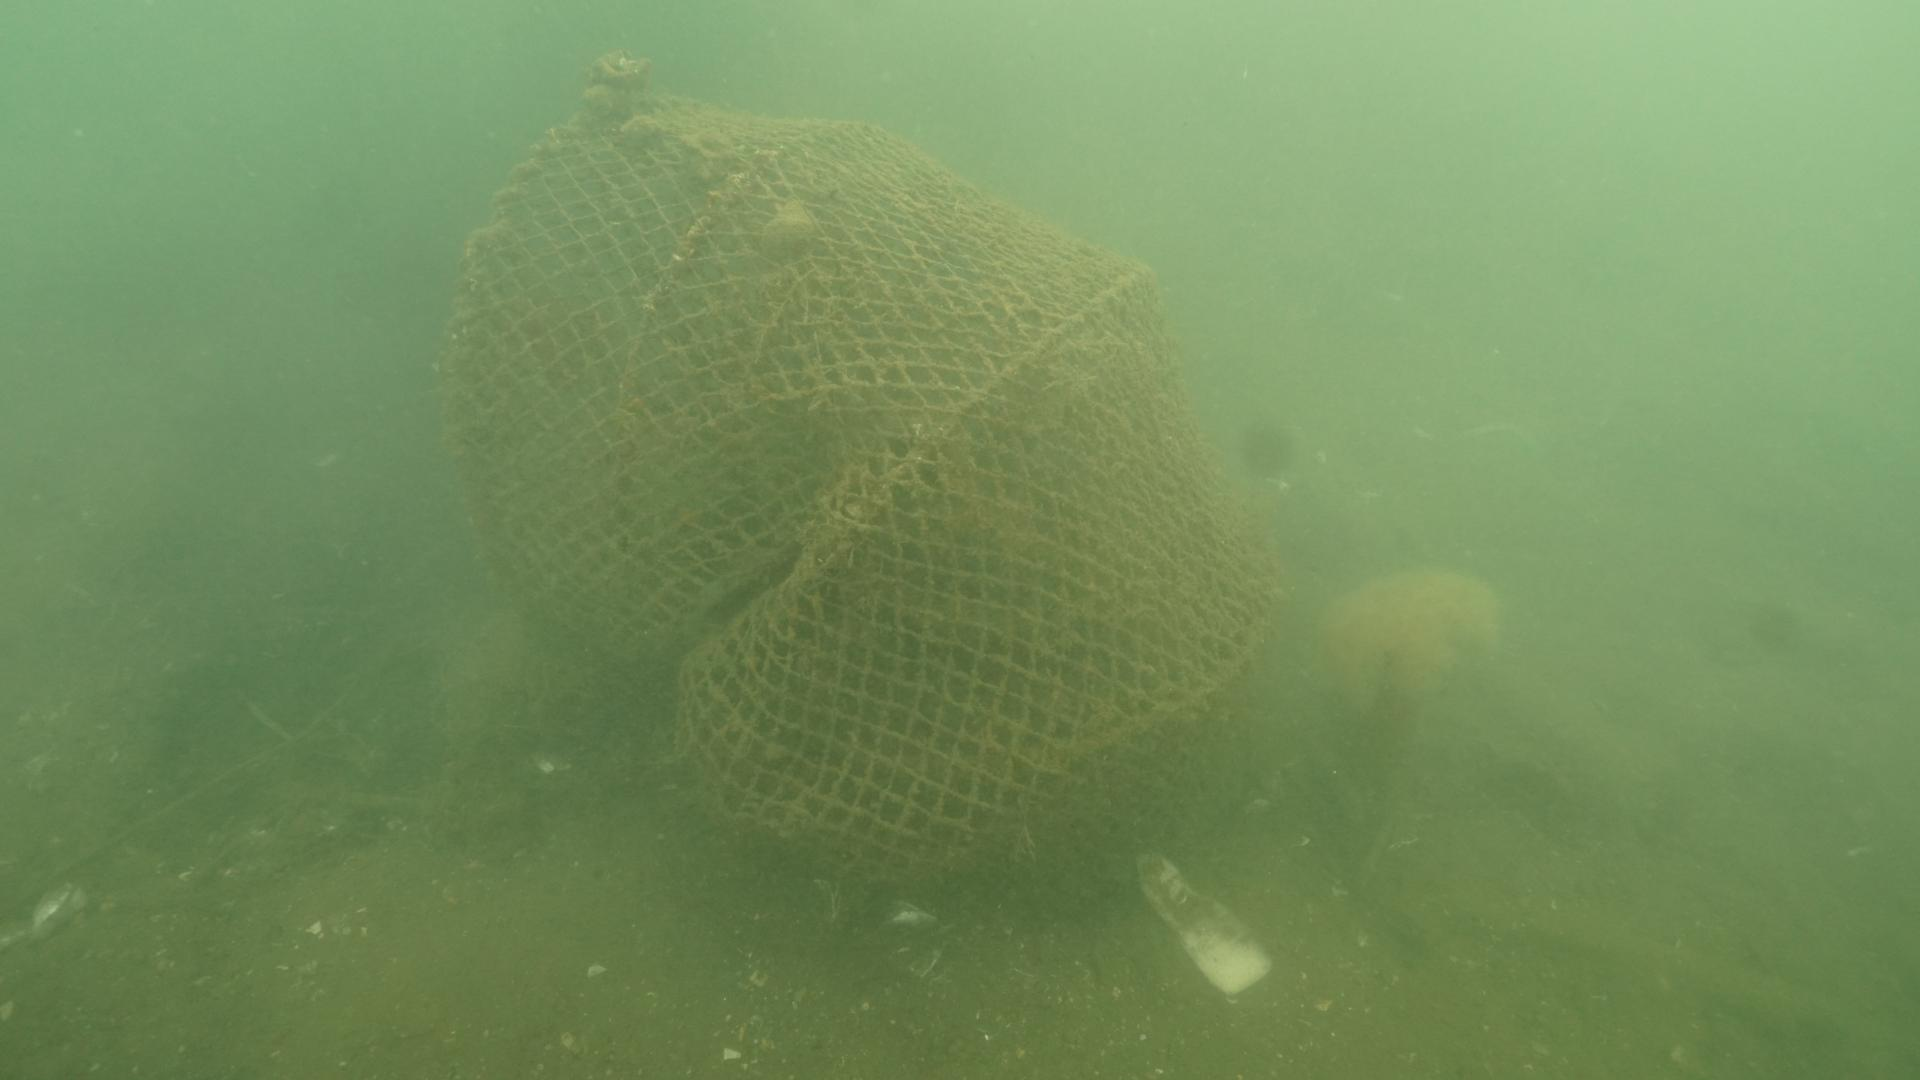spring fish trap: (433, 51, 1284, 923)
